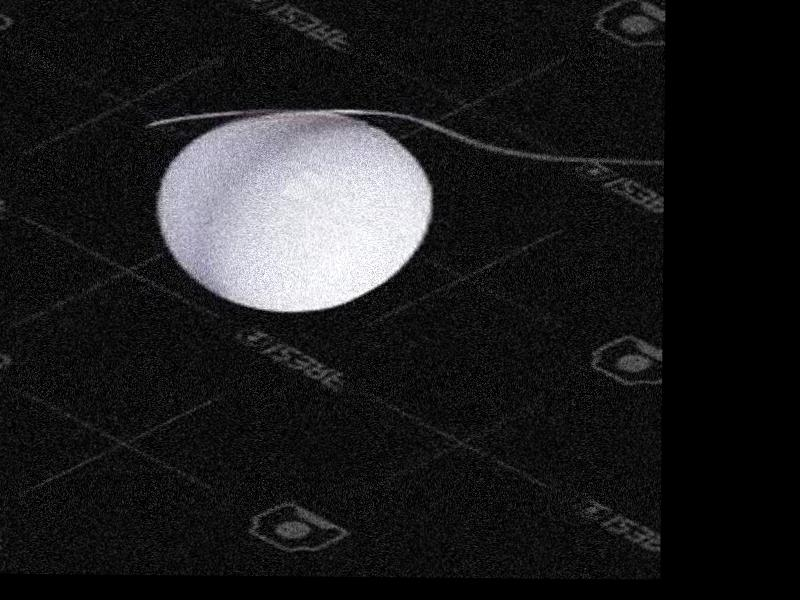Eggs: (156, 109, 433, 310)
